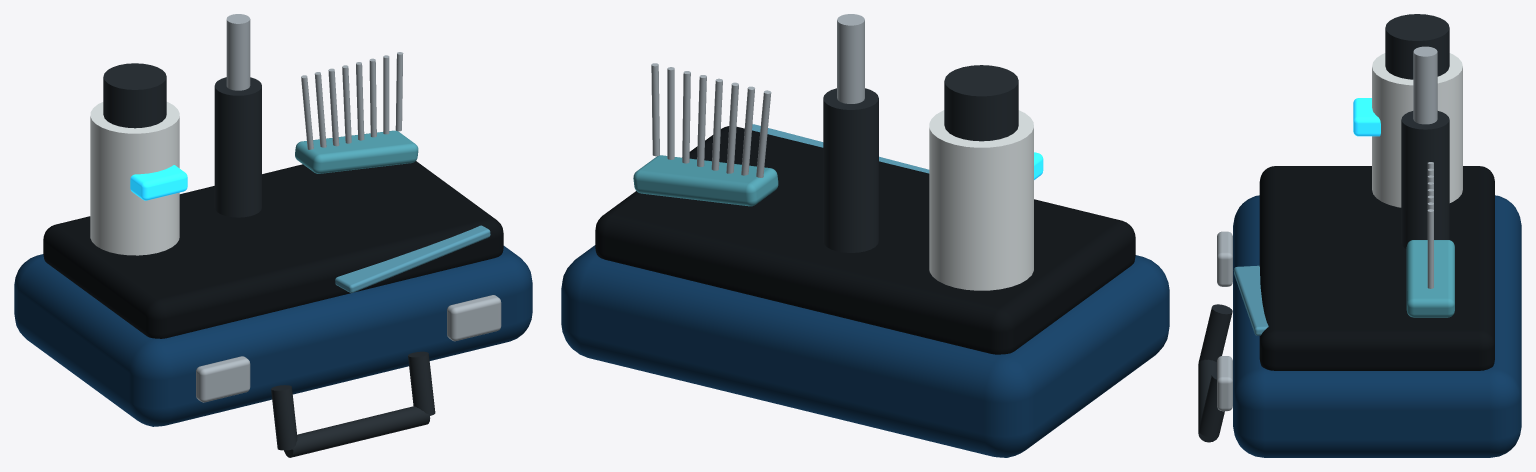
Rendered from electronics-cleaning-kit.glb.
3 renders of one model, left to right at view 1: azimuth 30°, elevation 25°; view 2: azimuth 150°, elevation 25°; view 3: azimuth 270°, elevation 25°, orthographic. The views are drawn at different scales.
Visible parts, largest first — view 1: Fitted foam insert, Cleaning kit case, Screen cleaner bottle, Professional electronics cleaning kit, Air blower, Case latch (×2), Spray cap, Microfiber brush, Microfiber cloth, Air nozzle, Cleaner label; view 2: Cleaning kit case, Fitted foam insert, Screen cleaner bottle, Air blower, Professional electronics cleaning kit, Spray cap, Microfiber brush, Air nozzle, Microfiber cloth; view 3: Fitted foam insert, Cleaning kit case, Screen cleaner bottle, Air blower, Professional electronics cleaning kit, Microfiber brush, Spray cap, Air nozzle, Case latch (×2), Microfiber cloth, Cleaner label.
Part boxes in pixels (<box>): Fitted foam insert: <box>43,161,503,338</box>; Cleaning kit case: <box>14,246,532,426</box>; Screen cleaner bottle: <box>90,102,179,255</box>; Professional electronics cleaning kit: <box>271,52,435,457</box>; Air blower: <box>214,77,261,217</box>; Case latch (×2): <box>196,295,501,402</box>; Spray cap: <box>103,63,166,128</box>; Microfiber brush: <box>295,130,418,173</box>; Microfiber cloth: <box>335,225,490,293</box>; Air nozzle: <box>226,14,250,90</box>; Cleaner label: <box>130,165,187,200</box>; Cleaning kit case: <box>561,245,1169,457</box>; Fitted foam insert: <box>595,126,1135,354</box>; Screen cleaner bottle: <box>929,110,1033,290</box>; Air blower: <box>823,88,878,252</box>; Professional electronics cleaning kit: <box>651,63,771,177</box>; Spray cap: <box>944,65,1018,141</box>; Microfiber brush: <box>633,155,778,206</box>; Air nozzle: <box>837,14,864,103</box>; Microfiber cloth: <box>752,124,929,173</box>; Fitted foam insert: <box>1259,166,1494,370</box>; Cleaning kit case: <box>1233,195,1521,457</box>; Screen cleaner bottle: <box>1372,53,1462,207</box>; Air blower: <box>1401,111,1449,248</box>; Professional electronics cleaning kit: <box>1198,162,1433,442</box>; Microfiber brush: <box>1406,240,1454,317</box>; Spray cap: <box>1385,14,1449,79</box>; Air nozzle: <box>1413,46,1437,124</box>; Case latch (×2): <box>1217,231,1232,411</box>; Microfiber cloth: <box>1233,265,1268,335</box>; Cleaner label: <box>1353,98,1380,136</box>.
Bounding box in the file's own units: 1.75 × 1.45 × 1.21.
